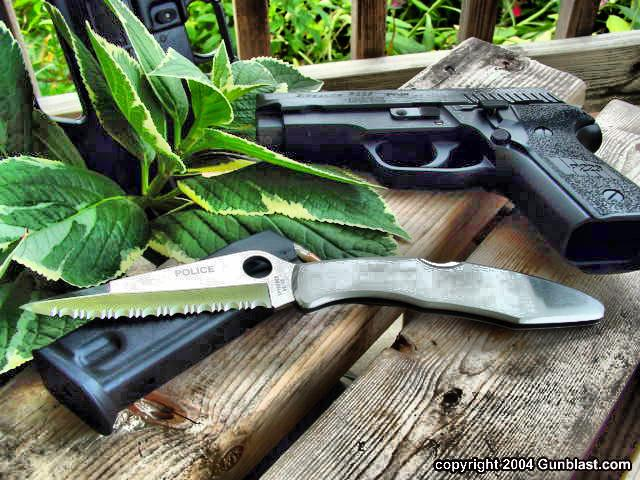knife: (10, 245, 290, 325)
